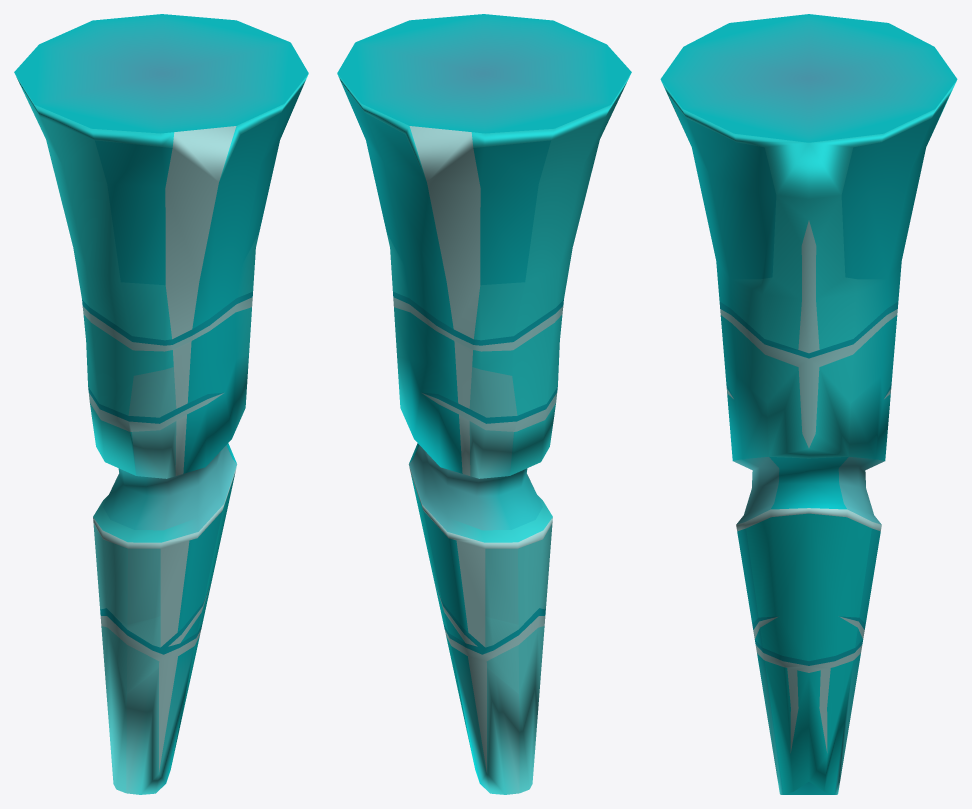
The model's file is IcicleC_0.glb.
The picture shows the model from 3 angles, left to right: view 1: azimuth 30°, elevation 25°; view 2: azimuth 150°, elevation 25°; view 3: azimuth 270°, elevation 25°; orthographic projection. The views are drawn at different scales.
Parts seen in each view (by area): view 1: IcicleC; view 2: IcicleC; view 3: IcicleC.
Part boxes in pixels (box(x1,y1,x2,y2)): IcicleC: box(14, 14, 308, 794); IcicleC: box(337, 14, 631, 794); IcicleC: box(660, 14, 957, 794).
Size of the model in its own units: 0.8611 by 2.27 by 0.8391.
